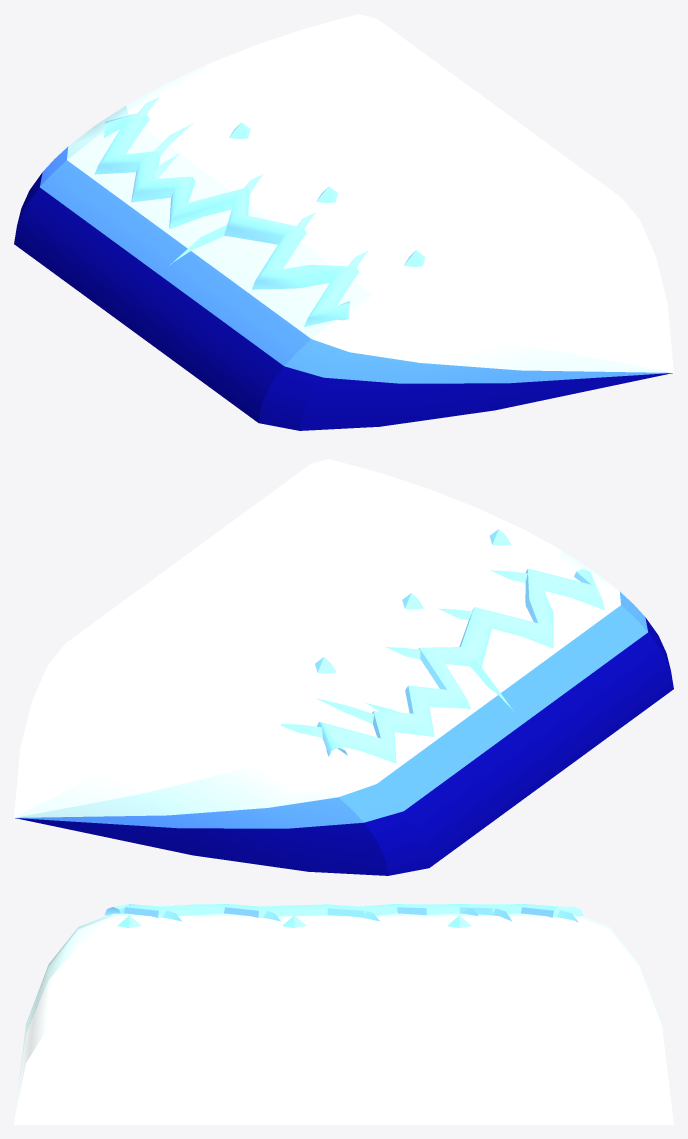
Rendered from shot_sdf.glb.
The picture shows the model from 3 angles, top to bottom: view 1: azimuth 30°, elevation 25°; view 2: azimuth 150°, elevation 25°; view 3: azimuth 270°, elevation 25°; orthographic projection. The views are drawn at different scales.
Parts seen in each view (by area): view 1: shot_sdf_rod, shot_sdf_rod_bottom, shot_sdf_crackle, shot_sdf_rod_top; view 2: shot_sdf_rod, shot_sdf_rod_top, shot_sdf_crackle, shot_sdf_rod_bottom; view 3: shot_sdf_rod, shot_sdf_rod_bottom, shot_sdf_rod_top, shot_sdf_crackle.
Part boxes in pixels (x1,y1,x2,y2): shot_sdf_rod: (14,19,621,422); shot_sdf_rod_bottom: (258,198,673,430); shot_sdf_crackle: (94,97,425,326); shot_sdf_rod_top: (17,14,376,225); shot_sdf_rod: (66,464,673,867); shot_sdf_rod_top: (14,643,429,875); shot_sdf_crackle: (281,529,604,763); shot_sdf_rod_bottom: (311,459,670,670); shot_sdf_rod: (113,913,574,1124); shot_sdf_rod_bottom: (14,913,112,1124); shot_sdf_rod_top: (575,915,673,1124); shot_sdf_crackle: (104,904,583,928).
Bounding box in the file's own units: 12 × 4.32 × 20.
